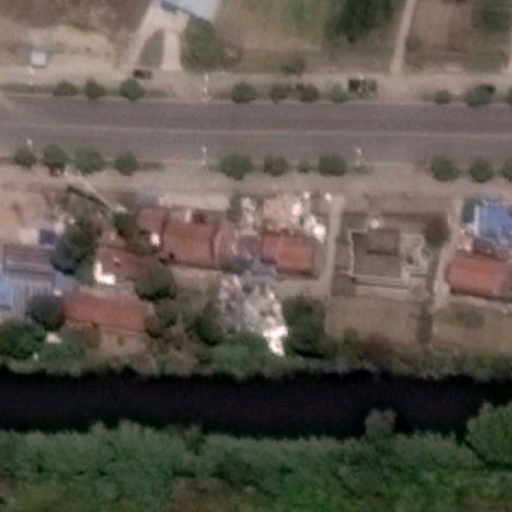msw: (216, 194, 331, 353)
